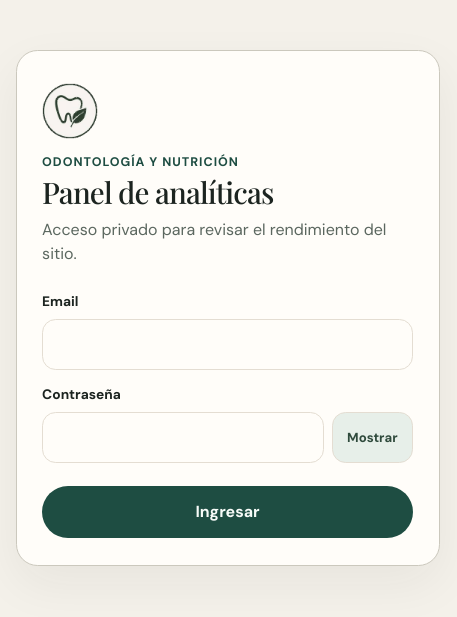
Scenario: admin login with Supabase configured › keeps the dashboard closed until a real session exists
Expected: the button "Ingresar" is enabled, [42,486,413,538]
Type "clinica@example.com" into the field labelled "Email" at x=228, y=344, box [42,319,413,370]
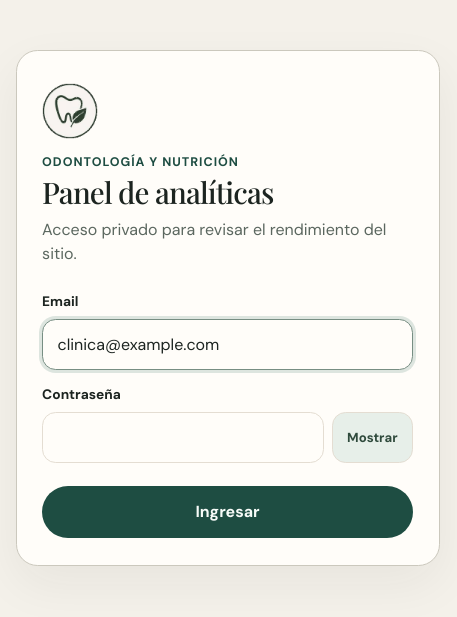
Type "clave-incorrecta" into the password field labelled "Contraseña" at x=183, y=438, box [42,412,324,463]
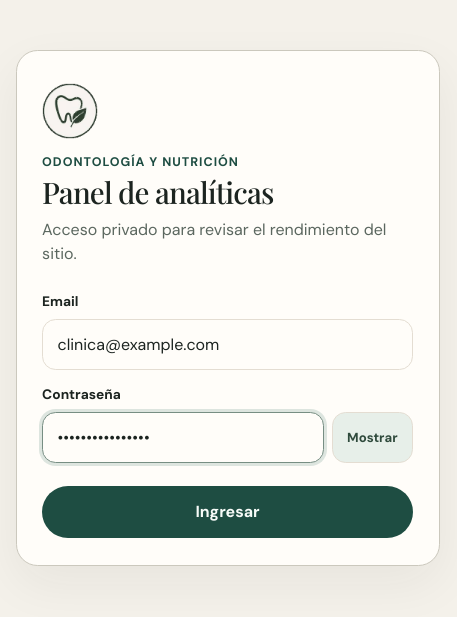
Click the button with aria-label "Mostrar contraseña" at x=372, y=438, box [332,412,413,463]
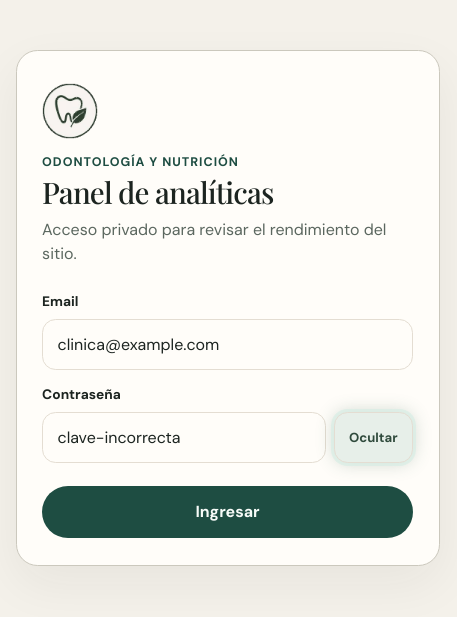
Expected: the field labelled "Contraseña" shows its text, [42,412,326,463]
Click the button "Ingresar" at x=228, y=512, box [42,486,413,538]
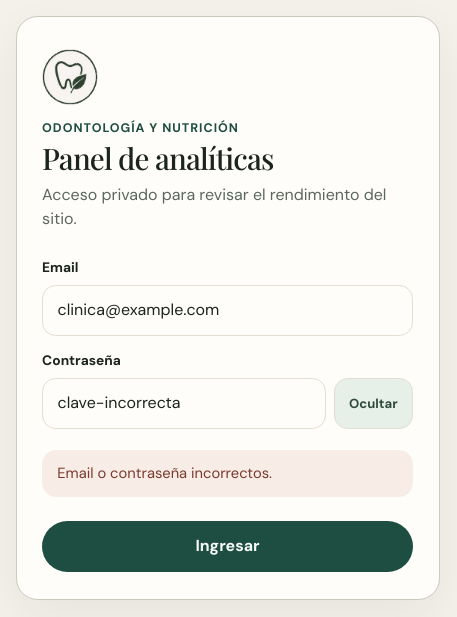
Expected: the text "Email o contraseña incorrectos." is shown, [42,450,413,497]
